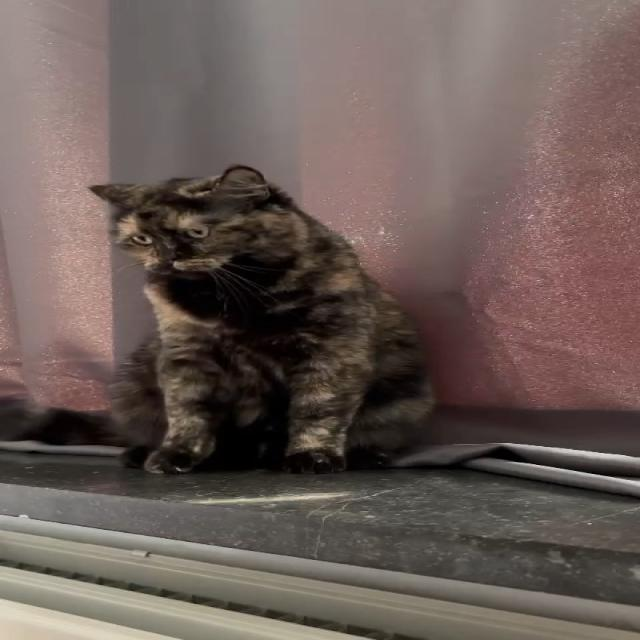authorized: (85, 163, 436, 475)
